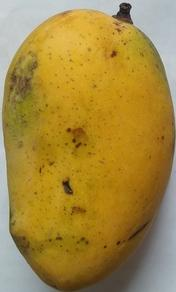Ripe: (1, 1, 176, 292)
